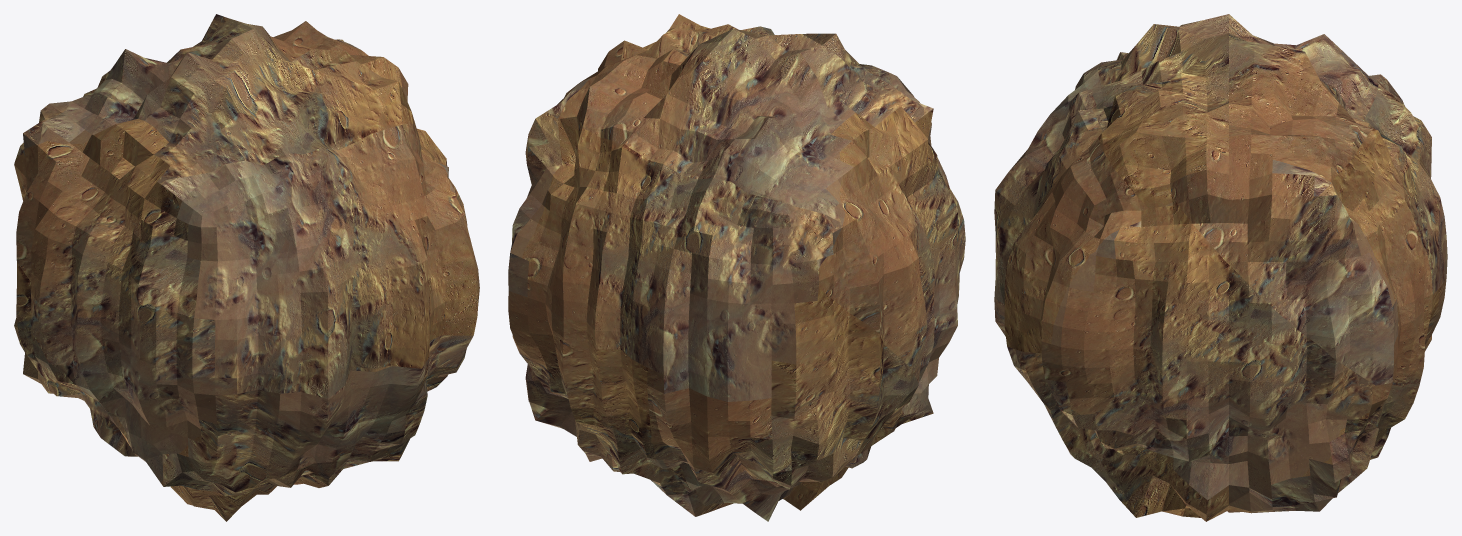
Rendered from asteroid156.obj.
3 views of the same model, side by side, from view 1: azimuth 30°, elevation 25°; view 2: azimuth 150°, elevation 25°; view 3: azimuth 270°, elevation 25° (orthographic).
Visible parts, largest first — view 1: Cube_Cube.002; view 2: Cube_Cube.002; view 3: Cube_Cube.002.
Boxes of the visible parts, x1=… form: Cube_Cube.002: x1=14, y1=14, x2=479, y2=521; Cube_Cube.002: x1=508, y1=14, x2=965, y2=521; Cube_Cube.002: x1=994, y1=14, x2=1447, y2=521.
Bounding box in the file's own units: 1.7 × 1.97 × 1.71.
